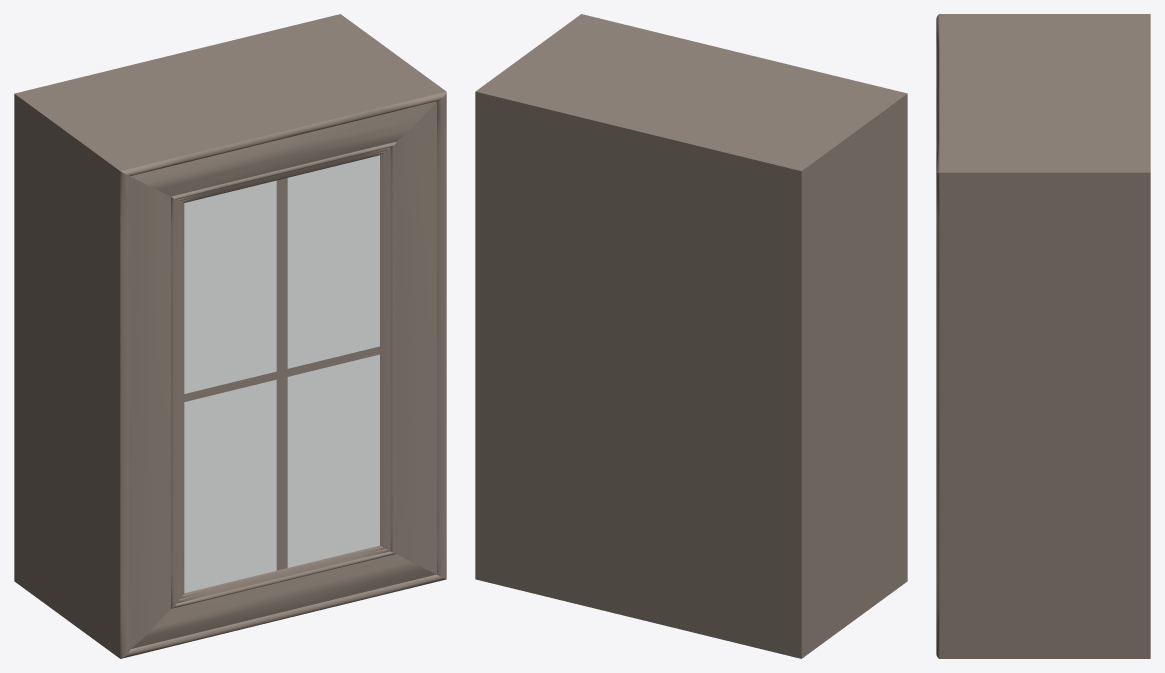
File: Wall-Cabinet-with-Doors-Prepped-for-Glass_std_001_W21in.glb
The picture shows the model from 3 angles, left to right: view 1: azimuth 30°, elevation 25°; view 2: azimuth 150°, elevation 25°; view 3: azimuth 270°, elevation 25°; orthographic projection.
Visible parts, largest first — view 1: Wall-Cabinet-with-Doors-Prepped-for-Glass.std.001_W21in; view 2: Wall-Cabinet-with-Doors-Prepped-for-Glass.std.001_W21in; view 3: Wall-Cabinet-with-Doors-Prepped-for-Glass.std.001_W21in.
Part boxes in pixels (left/top/right/bottom): Wall-Cabinet-with-Doors-Prepped-for-Glass.std.001_W21in: left=14, top=14, right=446, bottom=658; Wall-Cabinet-with-Doors-Prepped-for-Glass.std.001_W21in: left=475, top=14, right=907, bottom=658; Wall-Cabinet-with-Doors-Prepped-for-Glass.std.001_W21in: left=936, top=14, right=1150, bottom=658.
Size of the model in its own units: 0.5334 by 0.762 by 0.3048.
